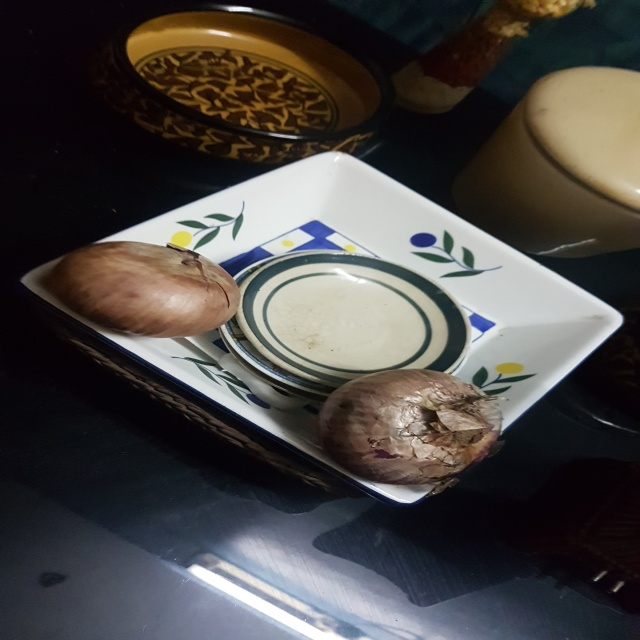onion: (317, 363, 509, 488), (54, 228, 250, 349)
